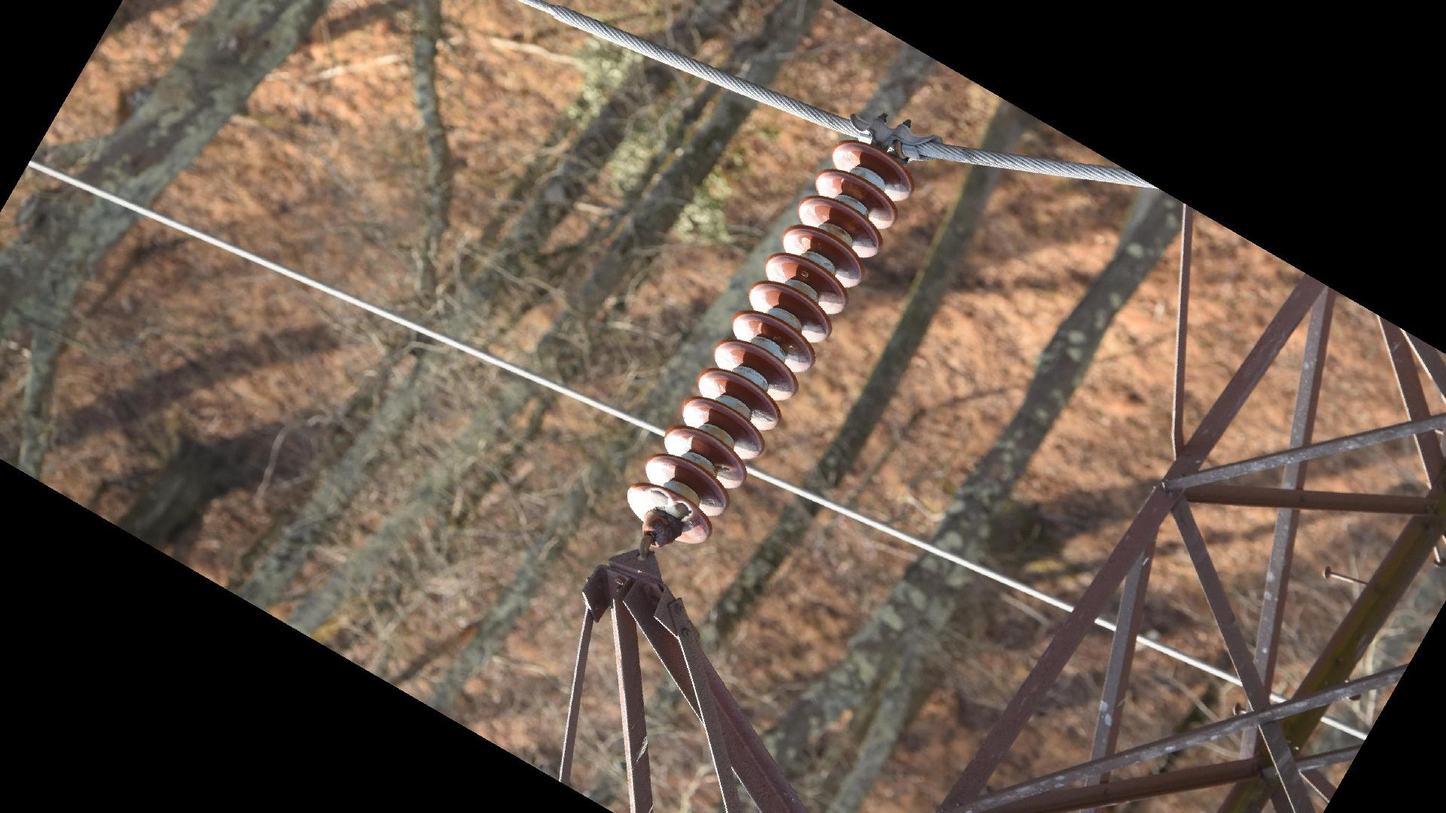insulator: (621, 136, 919, 550)
insulator_flashover: (644, 488, 695, 525), (750, 408, 774, 426), (712, 462, 736, 477)
